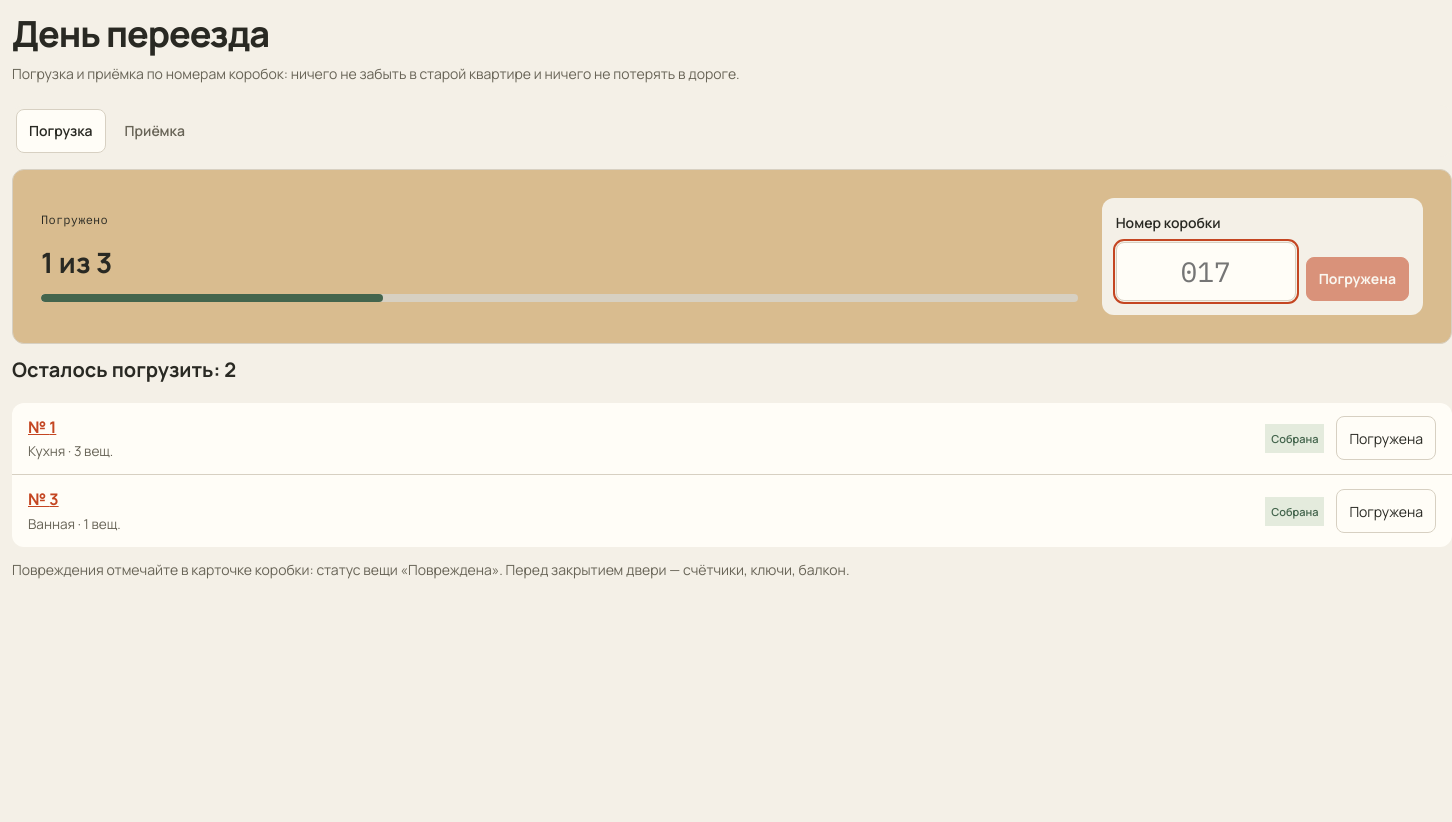
Test case: день переезда › приёмка не пропускает погрузку при вводе номера вручную
Expected: the heading "1 из 3" is shown, 41,242 -> 112,280
Click the tab "Приёмка".
click(155, 131)  # box 112,109 -> 198,153
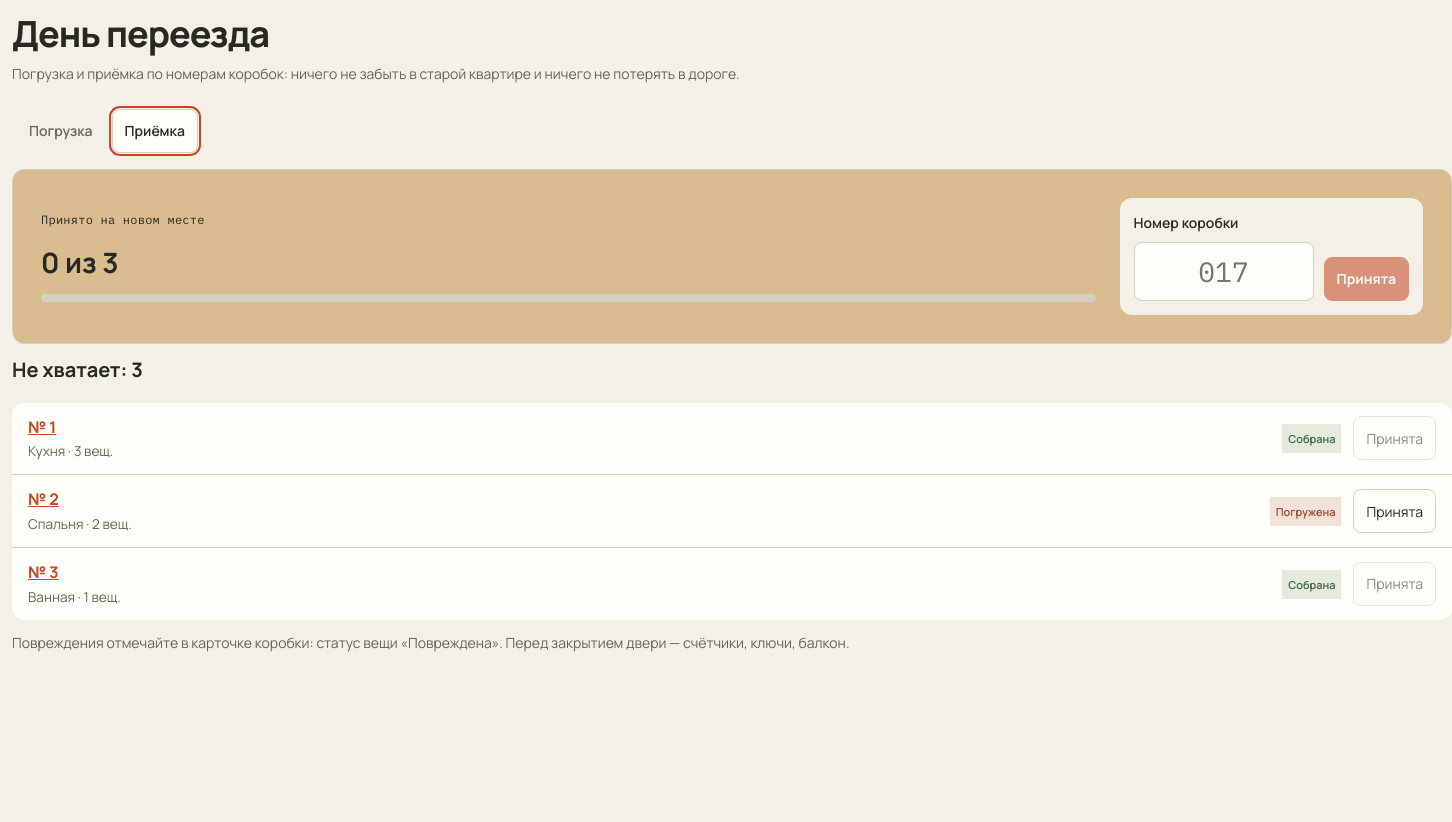
Type "1" into the field labelled "Номер коробки".
click(1224, 271); type("1")  # box 1134,242 -> 1314,301
Then press Enter
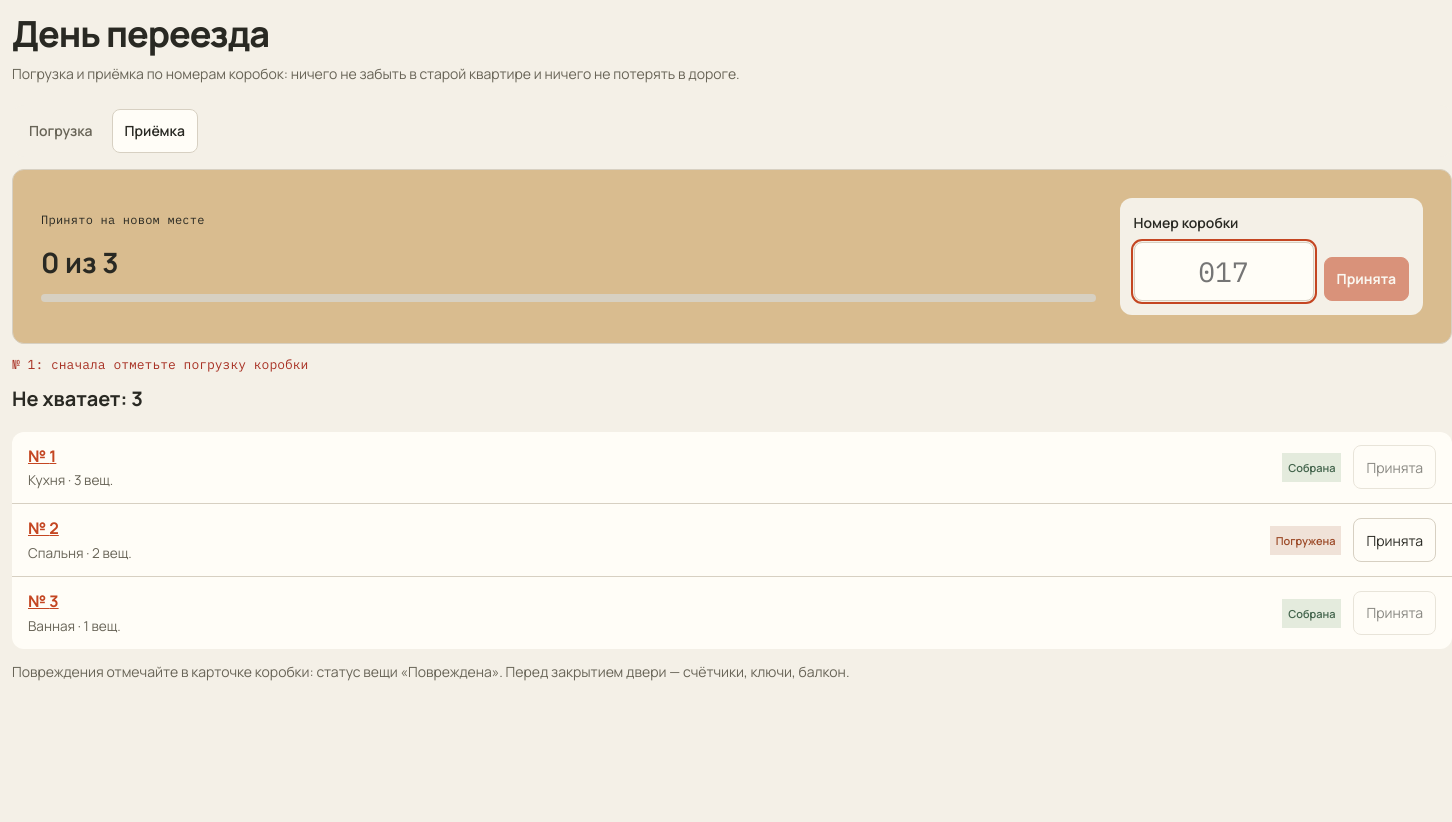
Expected: the list item "№ 1: сначала отметьте погрузку коробки" is shown, 12,356 -> 308,373
Type "2" into the field labelled "Номер коробки".
click(1224, 271); type("2")  # box 1134,242 -> 1314,301
Then press Enter
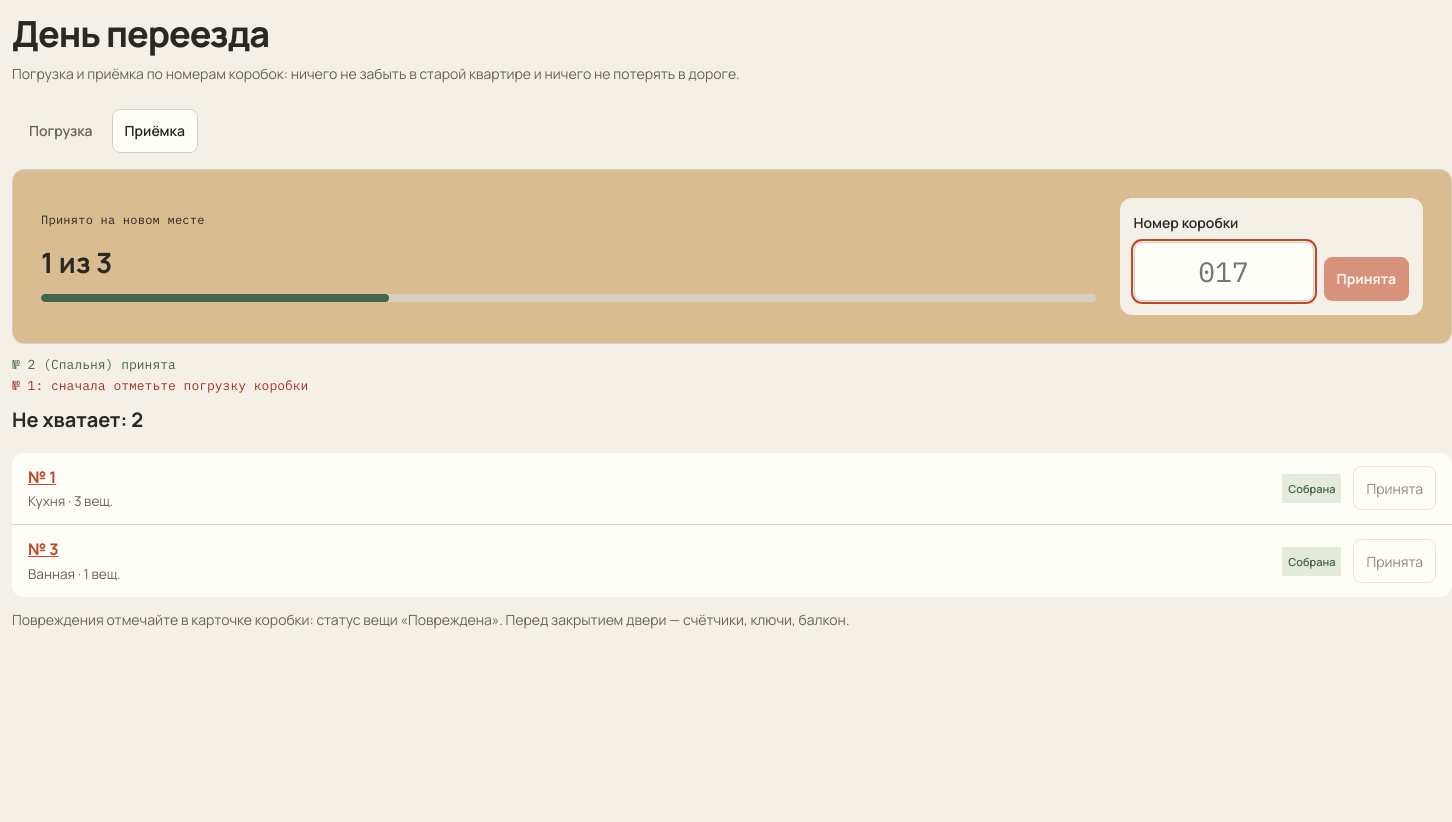
Expected: the heading "1 из 3" is shown, 41,242 -> 112,280
